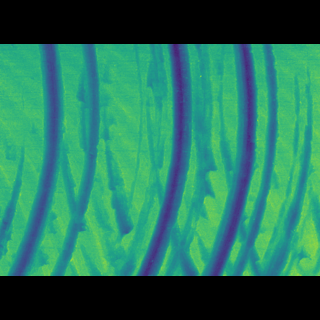Loch: (132, 73, 320, 244), (4, 76, 71, 244), (45, 75, 104, 244), (98, 134, 138, 219), (0, 149, 30, 234)
